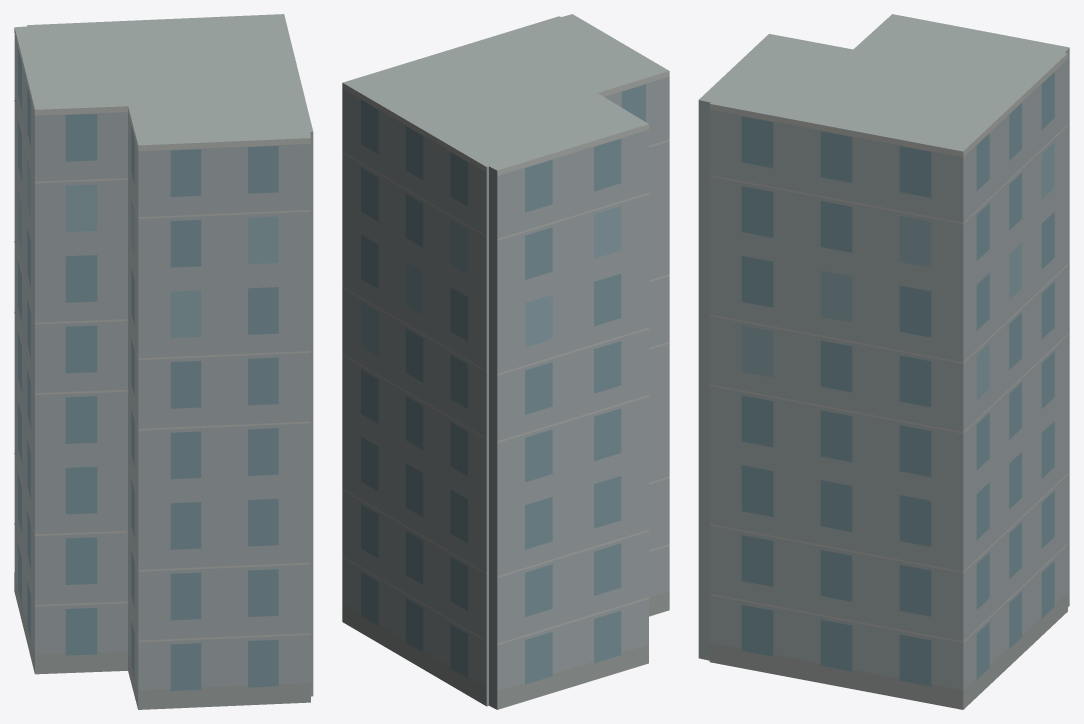
File: survey-upis-32529000.glb
3 views of the same model, side by side, from view 1: azimuth 30°, elevation 25°; view 2: azimuth 150°, elevation 25°; view 3: azimuth 270°, elevation 25° (orthographic). The views are drawn at different scales.
Parts seen in each view (by area): view 1: survey-upis-32529000.tmp; view 2: survey-upis-32529000.tmp; view 3: survey-upis-32529000.tmp.
Part boxes in pixels (x1,y1,x2,y2): survey-upis-32529000.tmp: [14, 14, 313, 709]; survey-upis-32529000.tmp: [342, 14, 669, 709]; survey-upis-32529000.tmp: [698, 14, 1069, 709].
Size of the model in its own units: 12.65 by 23.9 by 14.42.
